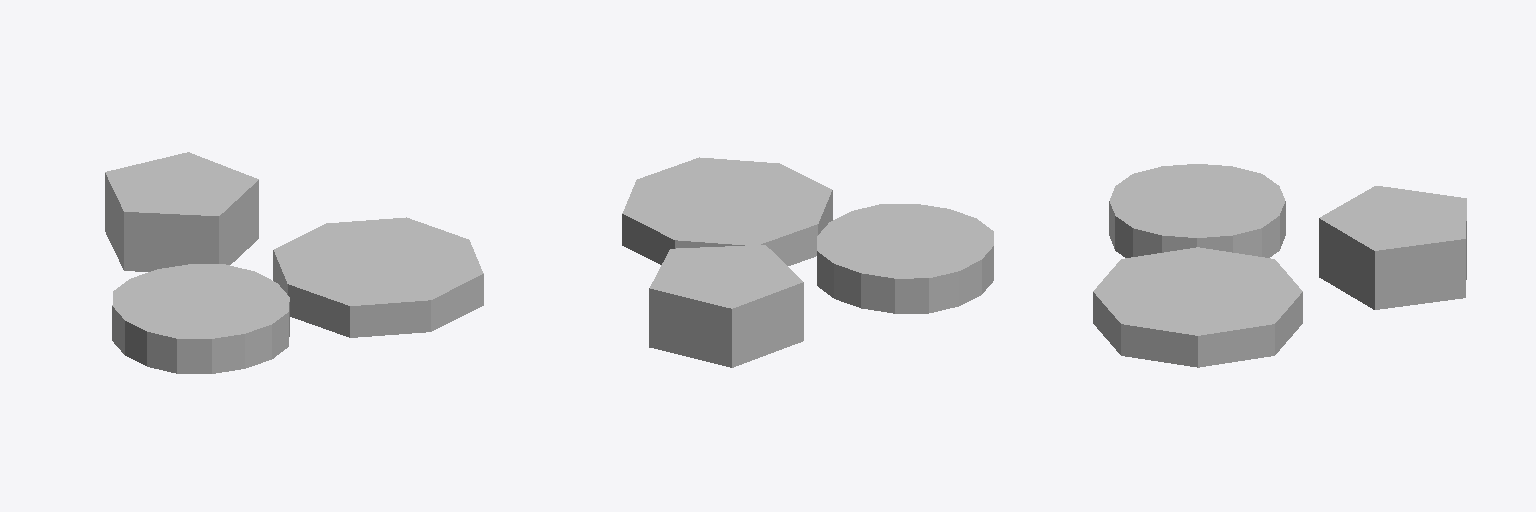
File: solids.obj
3 views of the same model, side by side, from view 1: azimuth 30°, elevation 25°; view 2: azimuth 150°, elevation 25°; view 3: azimuth 270°, elevation 25° (orthographic).
Visible parts, largest first — view 1: Plane.005; view 2: Plane.005; view 3: Plane.005.
Part boxes in pixels (left/top/right/bottom): Plane.005: left=105, top=152, right=483, bottom=373; Plane.005: left=622, top=157, right=993, bottom=367; Plane.005: left=1093, top=164, right=1466, bottom=367.
Bounding box in the file's own units: 14.13 × 2.32 × 13.27.